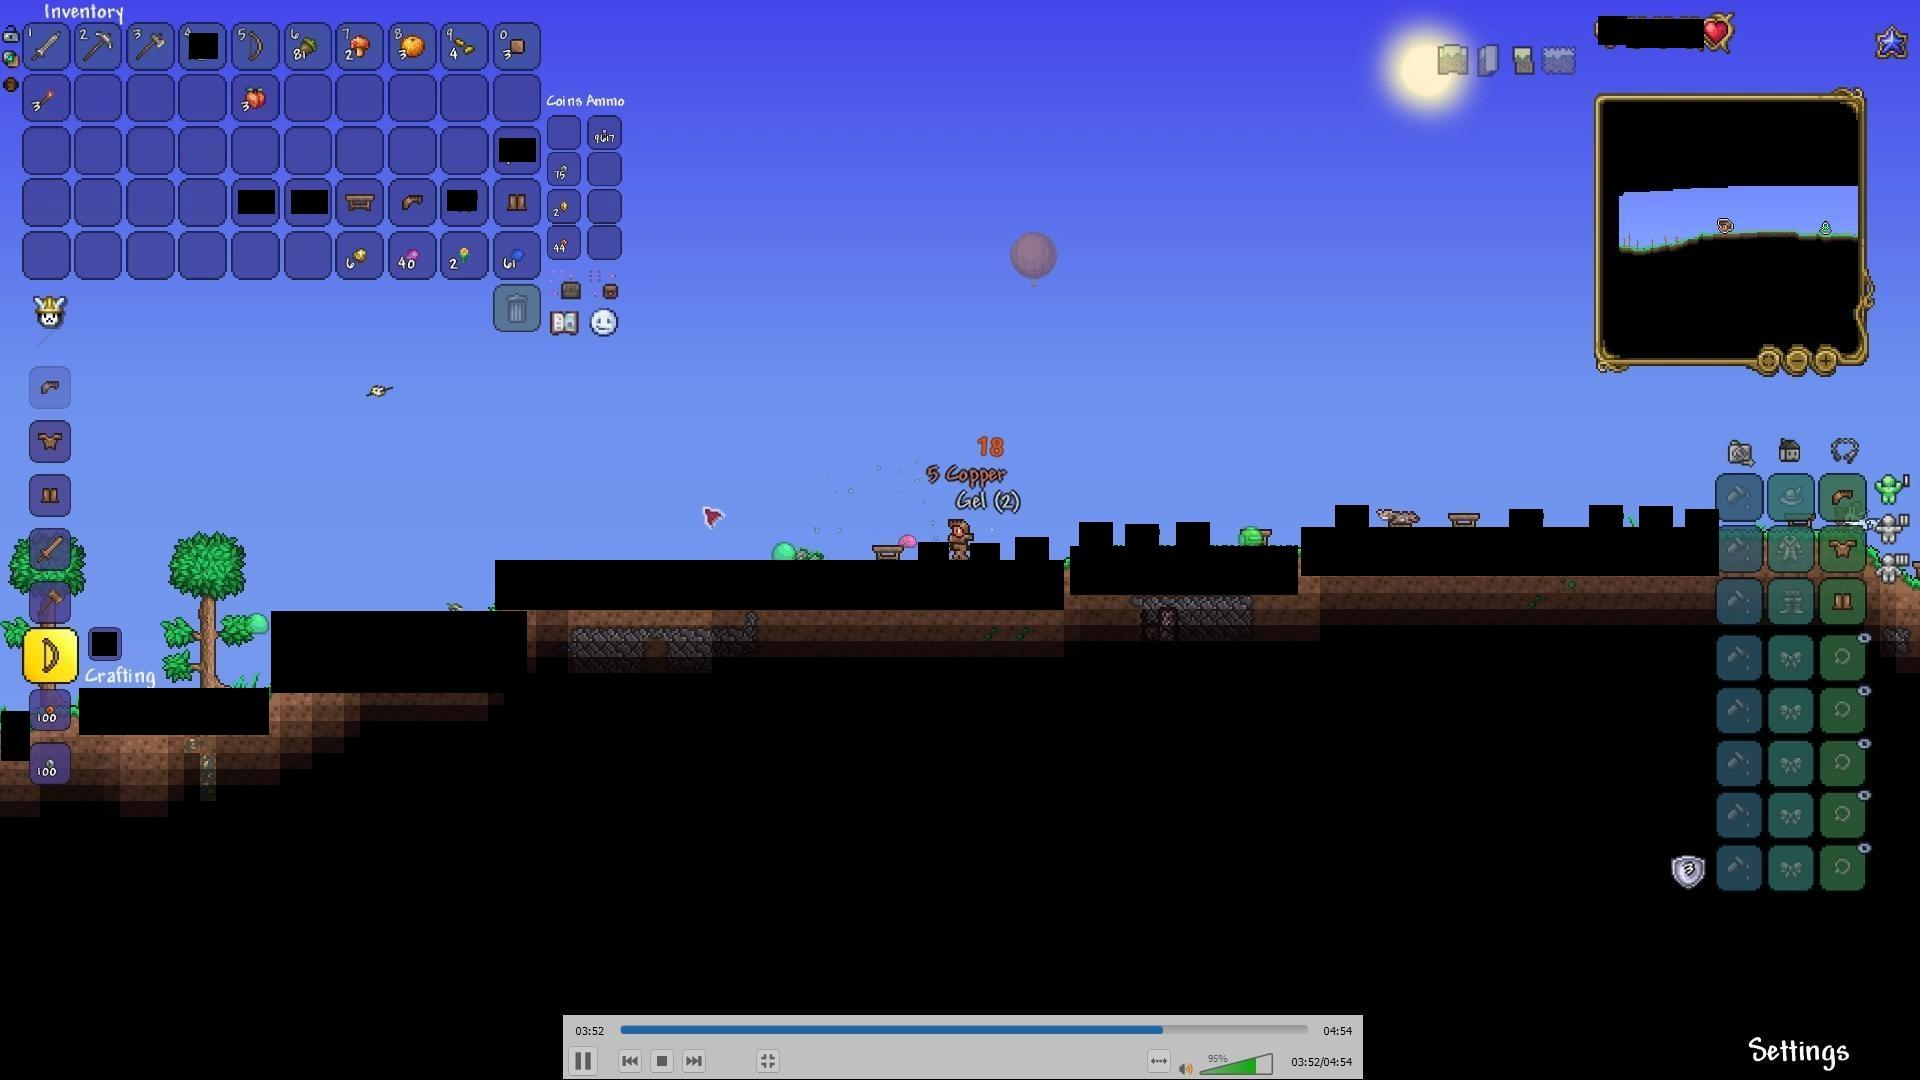breastplate: (34, 429, 65, 451), (1830, 537, 1859, 558)
heart: (1705, 18, 1731, 46)
helmet: (32, 375, 66, 402), (400, 189, 429, 214), (1829, 484, 1857, 509)
legs: (37, 483, 65, 508), (505, 186, 530, 214), (1832, 588, 1857, 615)
slime: (240, 608, 272, 637), (1233, 518, 1266, 546), (767, 543, 798, 563)
tree: (179, 527, 241, 687)
workbench: (342, 191, 378, 214), (1448, 504, 1481, 527), (872, 543, 901, 564)
